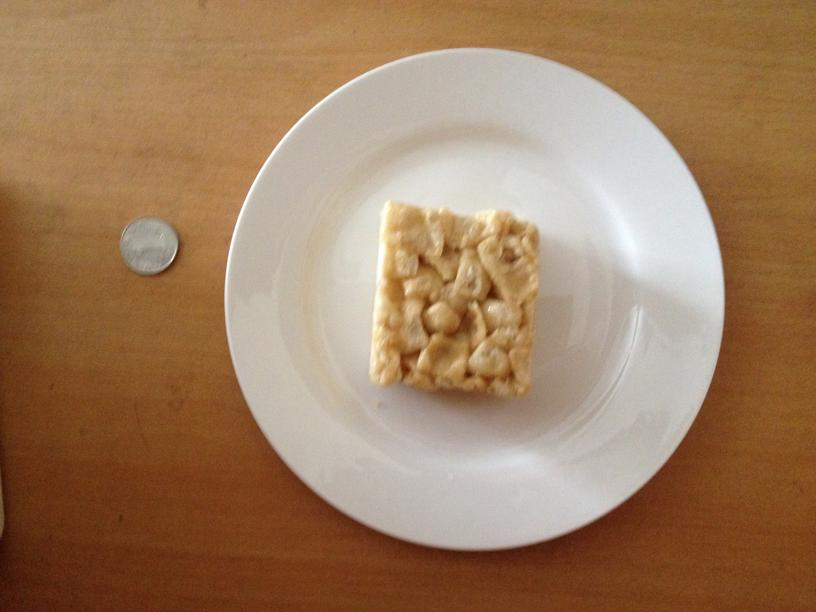coin: (116, 218, 178, 276)
sachima: (369, 200, 538, 399)
